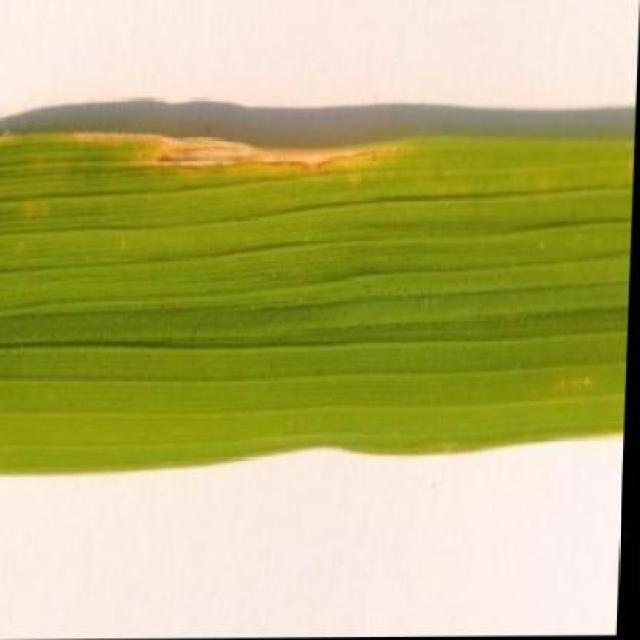Brown_Spot: (0, 42, 625, 482)
